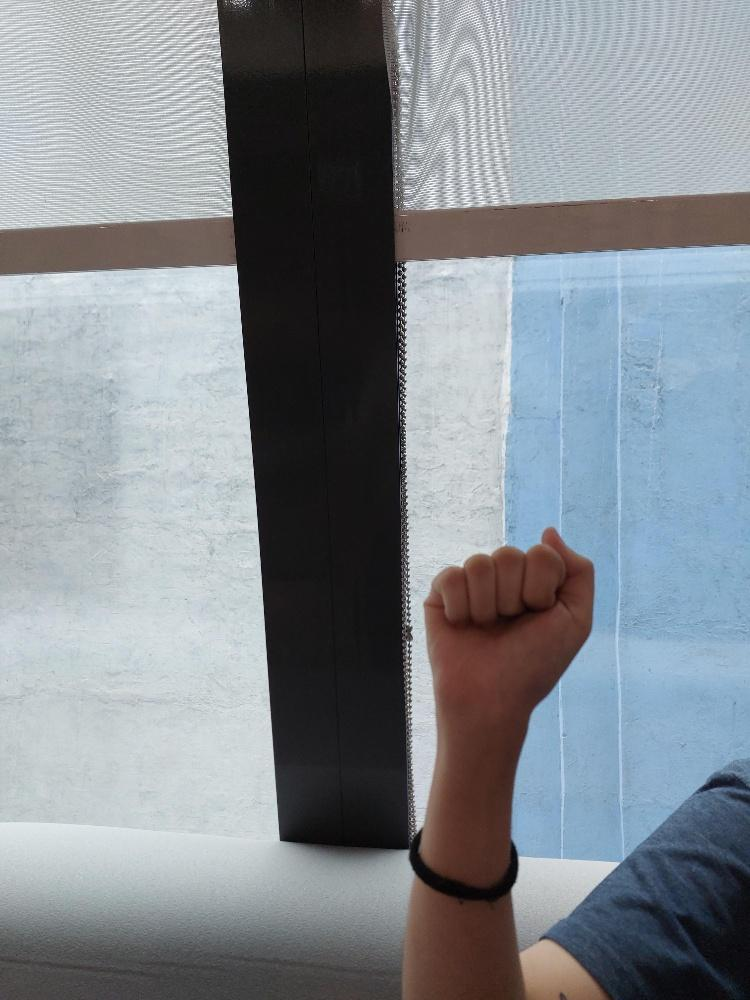a: (422, 525, 596, 697)
